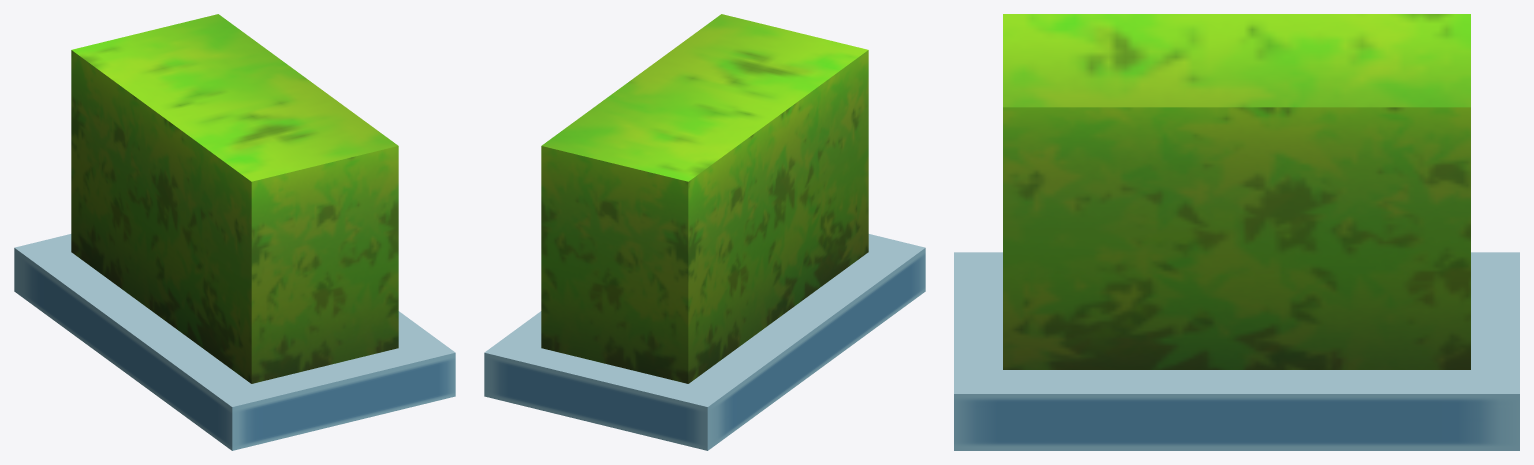
File: zywoplot_1.fbx
3 views of the same model, side by side, from view 1: azimuth 30°, elevation 25°; view 2: azimuth 150°, elevation 25°; view 3: azimuth 270°, elevation 25° (orthographic). The views are drawn at different scales.
Parts seen in each view (by area): view 1: polySurface123; view 2: polySurface123; view 3: polySurface123.
Part boxes in pixels (x1,y1,x2,y2): polySurface123: (14, 14, 455, 450); polySurface123: (484, 14, 925, 450); polySurface123: (954, 14, 1519, 450).
Size of the model in its own units: 13.14 by 13.83 by 22.2.
